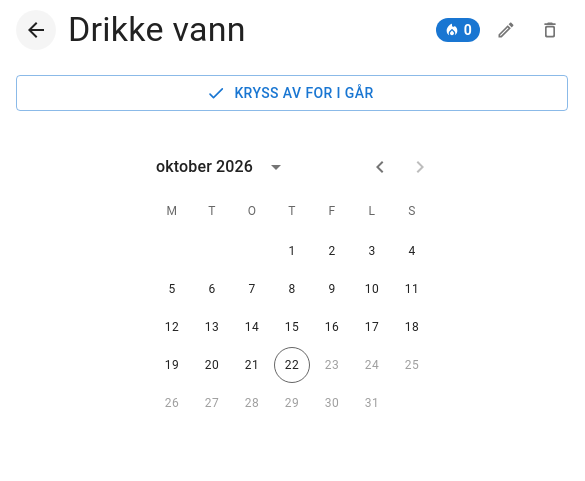
Test: HabitDetailPage › check in for yesterday › shows an error and keeps the button enabled when the check-in fails
Click the button "Kryss av for i går" at (292,93), box [16,75,568,112]
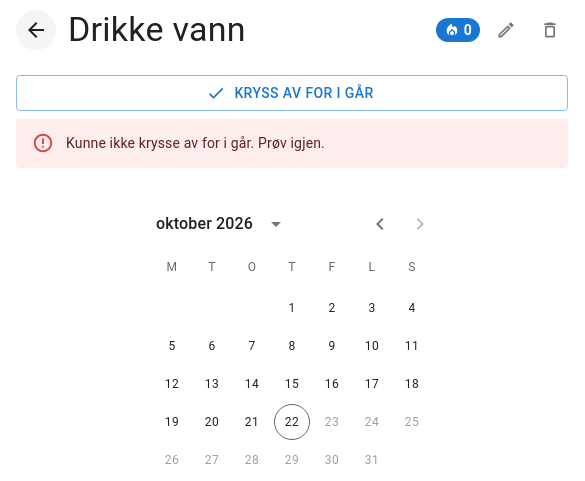
Expected: the text "Kunne ikke krysse av for i går. Prøv igjen." is shown, [66,136,325,152]
